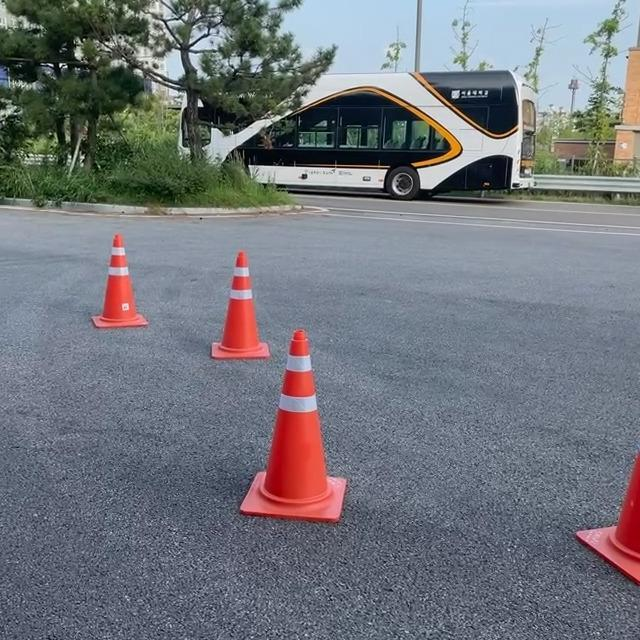fallen_object: (245, 320, 366, 564), (553, 387, 640, 620), (169, 242, 278, 376), (92, 227, 150, 380)
